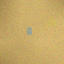person: (26, 26, 32, 35)
structure: (45, 13, 57, 25)
